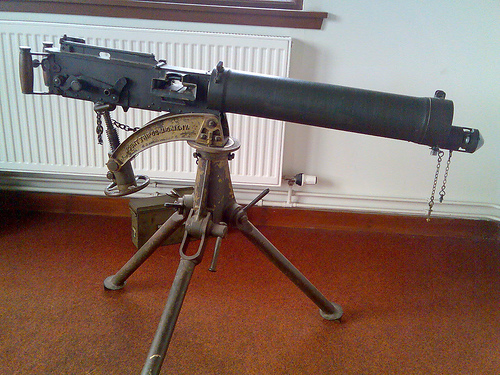rifle: (18, 19, 470, 345)
